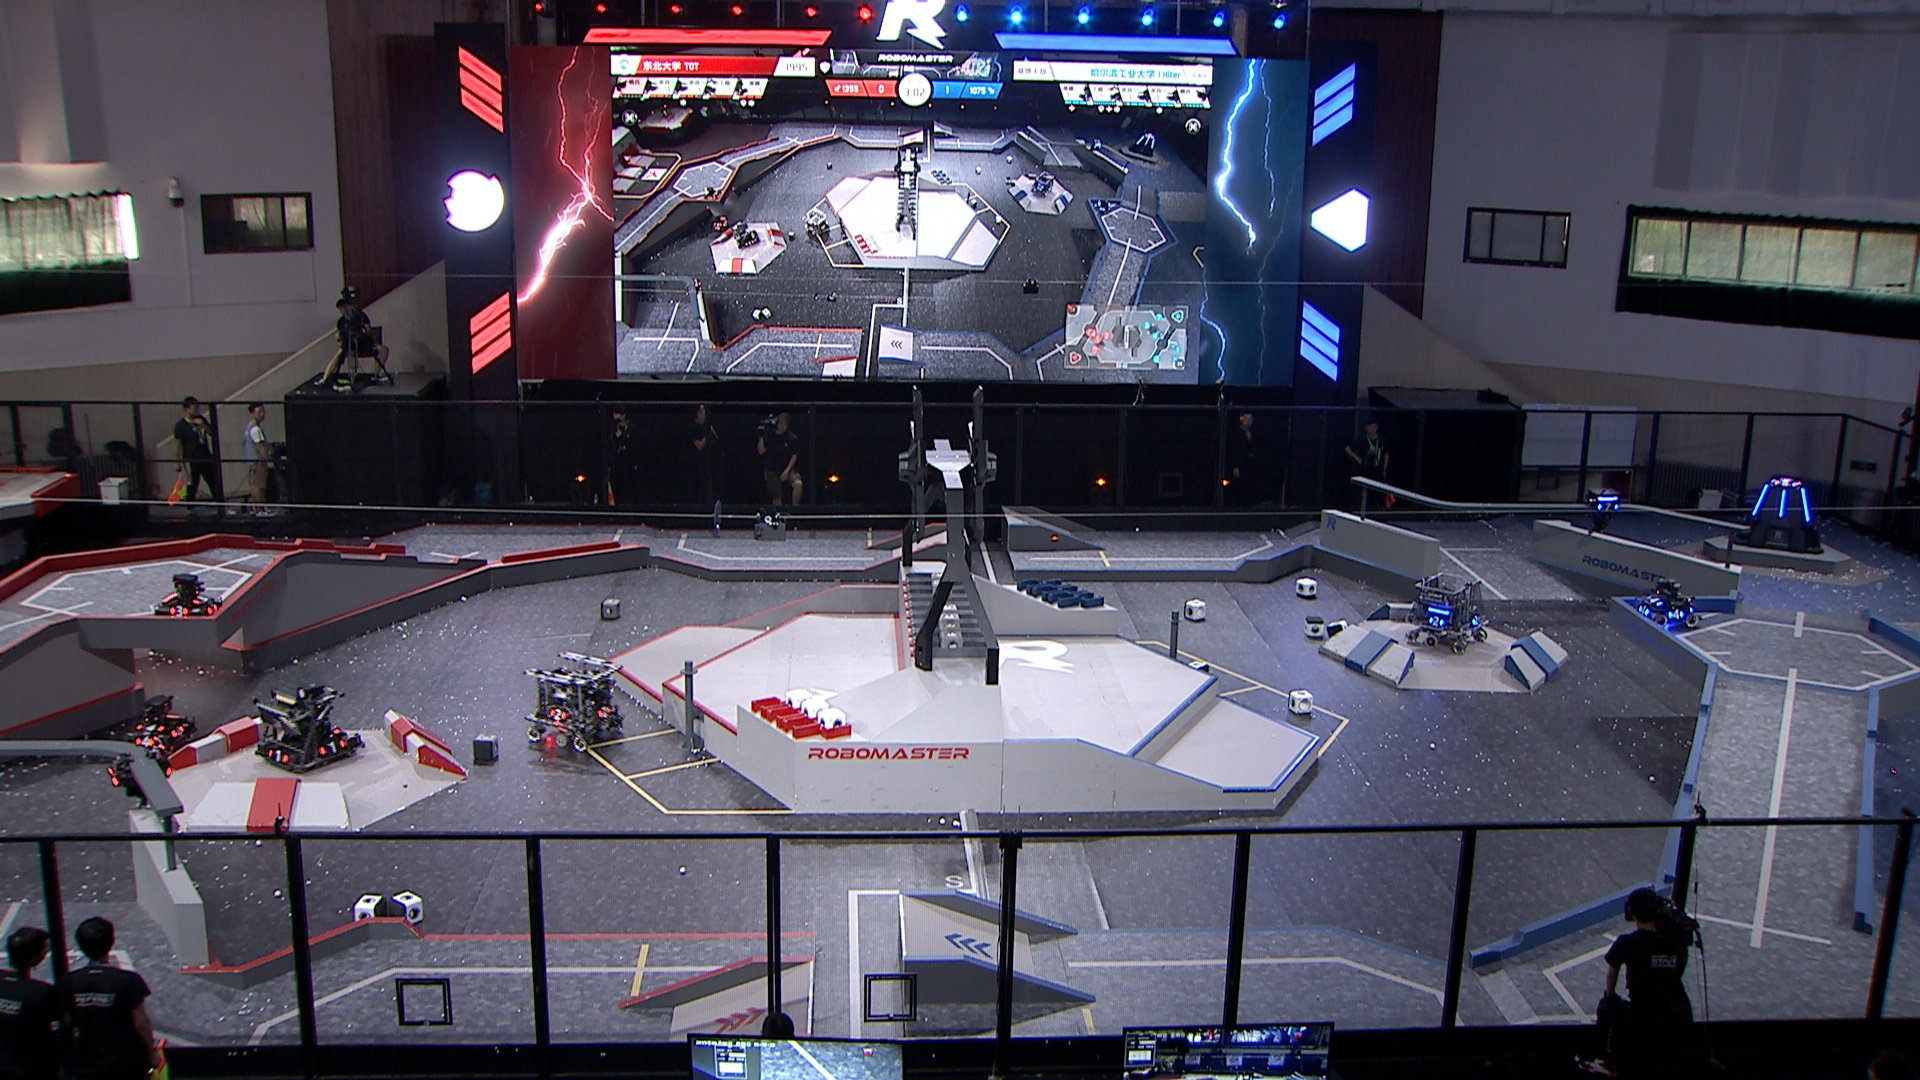armor: (1795, 485, 1816, 526), (1747, 481, 1770, 518), (315, 737, 348, 760), (261, 745, 290, 767), (102, 766, 127, 789), (1662, 604, 1689, 622), (1775, 488, 1789, 520), (1644, 591, 1667, 611), (135, 721, 164, 736), (547, 705, 568, 725), (131, 733, 157, 749), (1424, 611, 1447, 628), (166, 603, 190, 618), (593, 702, 612, 721), (190, 589, 210, 607), (1598, 500, 1621, 513), (204, 603, 223, 618), (167, 723, 186, 738), (1468, 612, 1485, 628)
base: (1730, 477, 1826, 556)
car: (522, 651, 624, 760), (252, 680, 363, 778), (1400, 564, 1489, 651), (123, 688, 196, 761), (150, 570, 228, 626), (1633, 571, 1698, 629)
ignore: (798, 207, 833, 239), (1126, 131, 1159, 158), (731, 224, 764, 251), (1029, 167, 1058, 196), (712, 211, 732, 229), (1774, 477, 1797, 489)
watcher: (98, 735, 179, 804), (1580, 487, 1625, 538)
